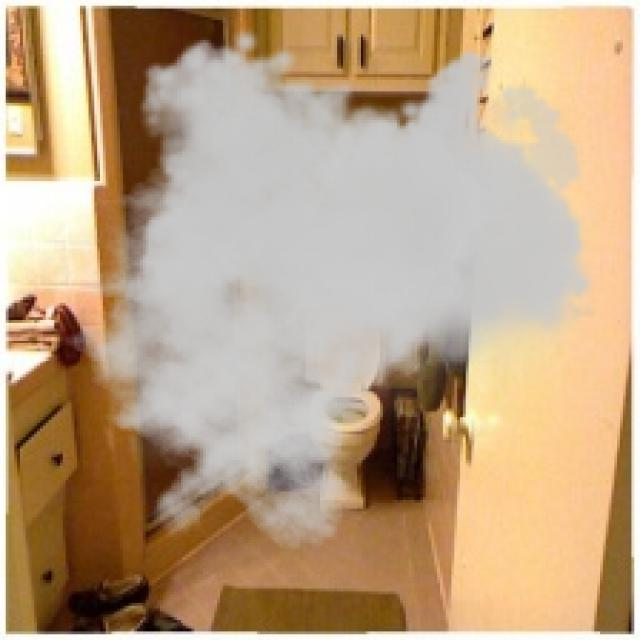Smoke: (45, 26, 598, 552)
